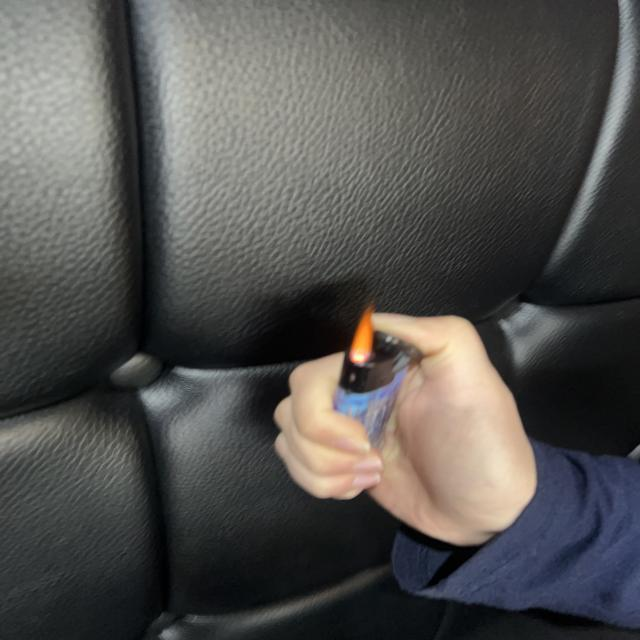fire: (343, 304, 381, 366)
